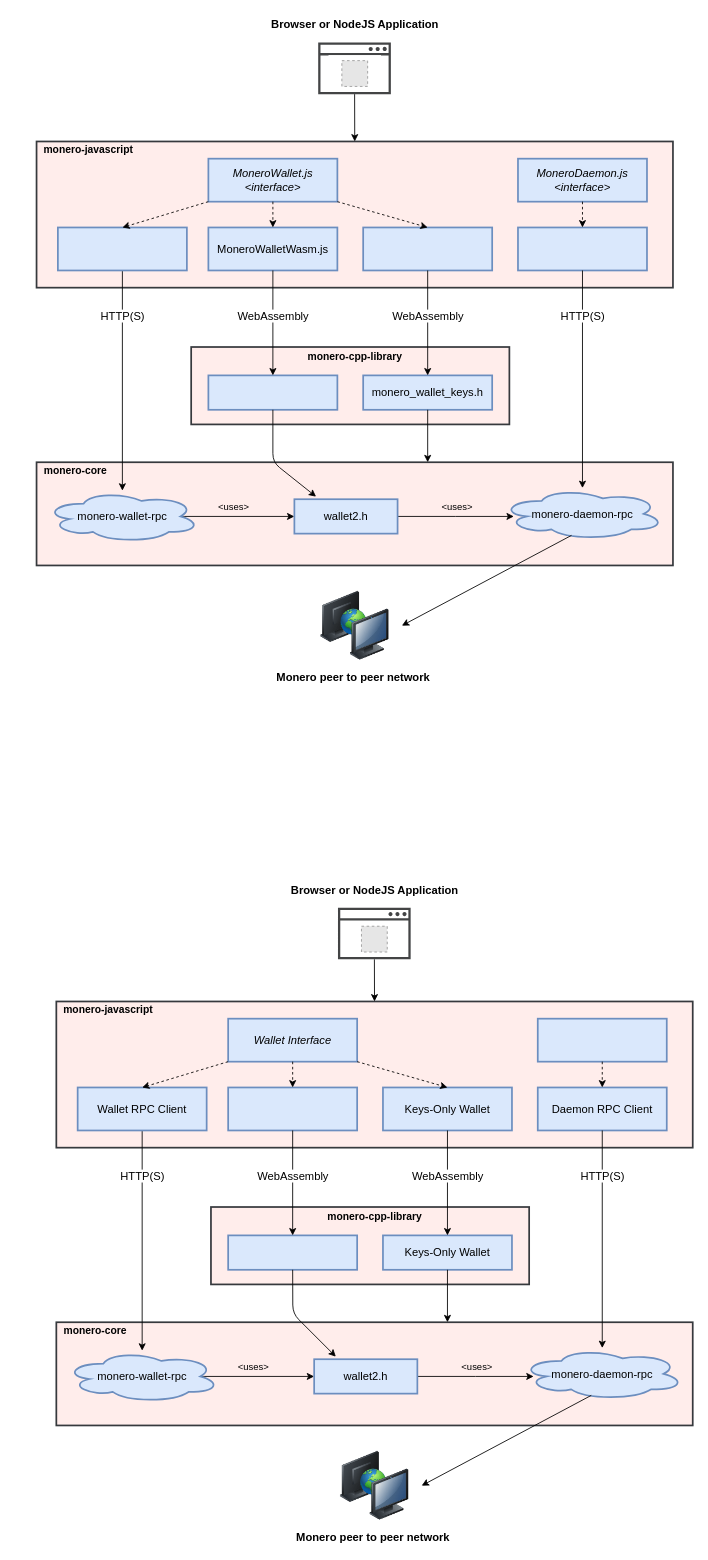
This 708x1560 diagram has some shape labels left out. Grey dashed boxes stand in for pictures. Each missing label, with the centre of its shape:
Daemon Interface: the point at 601,1039
Full Wallet: the point at 292,1252
monero_wallet_core.h: the point at 272,392
MoneroDaemonRpc.js: the point at 582,248
MoneroWalletKeys.js: the point at 427,248
MoneroWalletRpc.js: the point at 122,248
WebAssembly Wallet: the point at 292,1108
